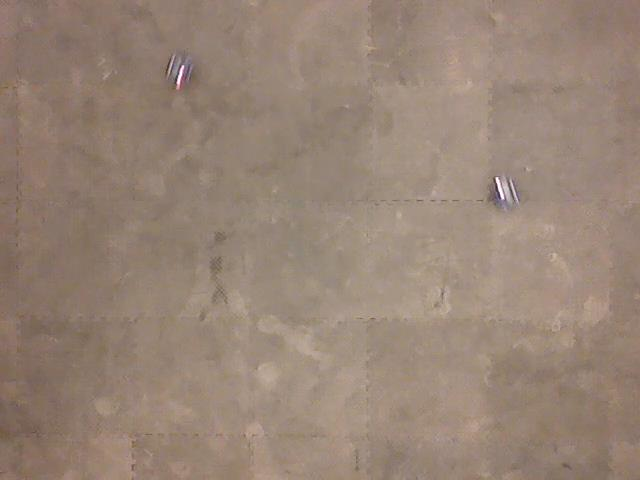Agent: (488, 171, 521, 213), (162, 52, 194, 93)
